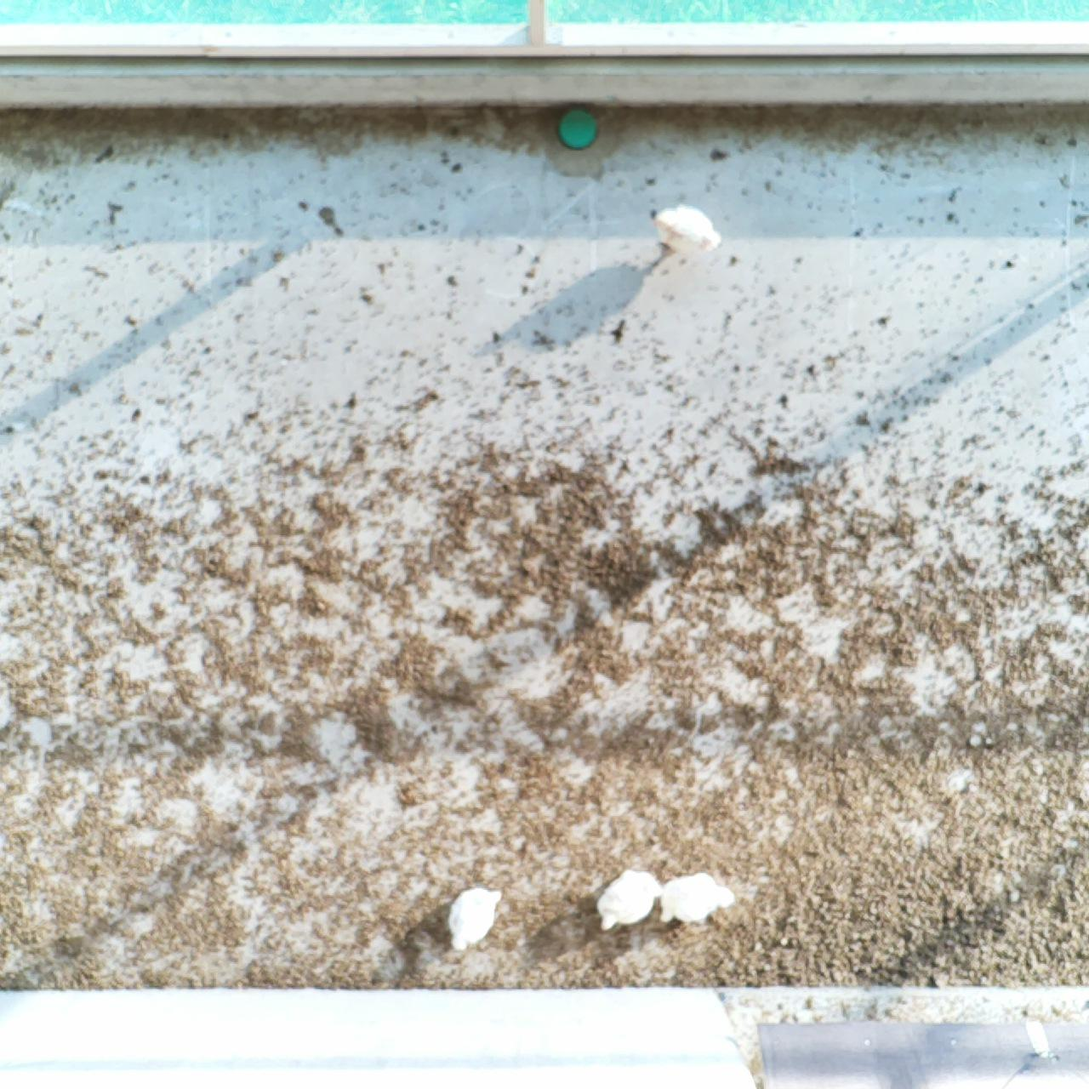chicken: (657, 868, 739, 928), (594, 866, 664, 933), (650, 201, 724, 262), (445, 883, 505, 957)
